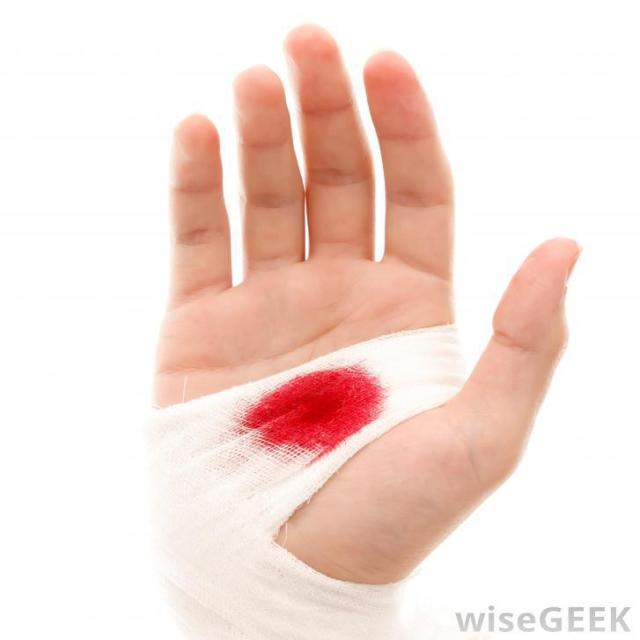B3: (159, 320, 472, 640)
